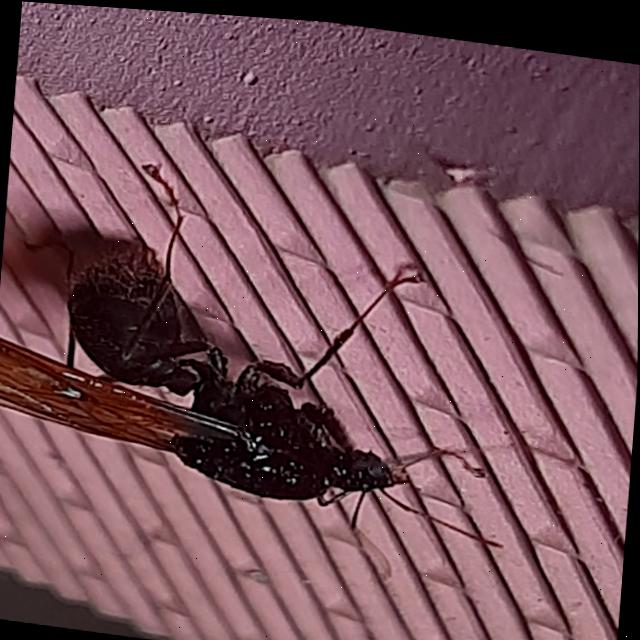Alive-Male-Alate: (0, 144, 526, 547)
